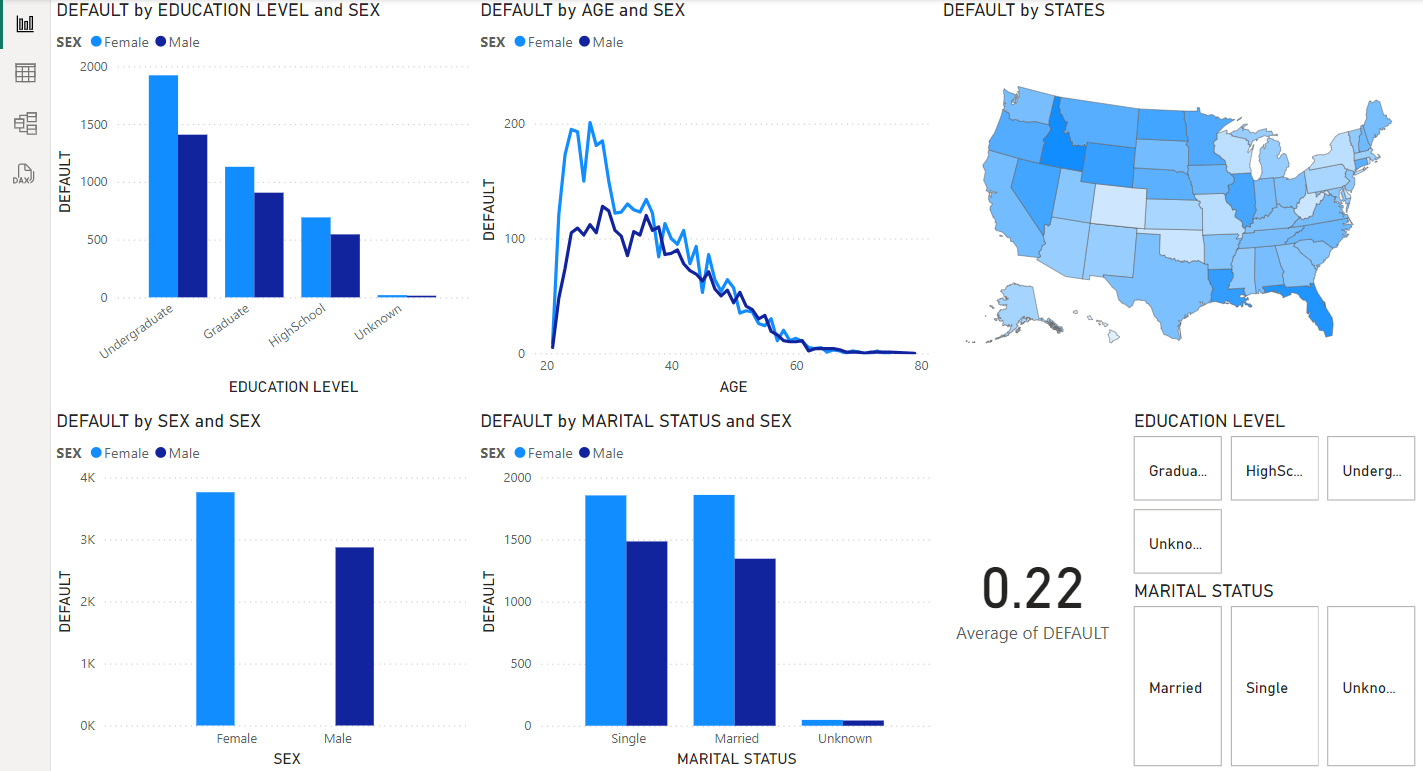

Layout of this report page (visuals, bound fields, positions):
{"tool":"powerbi","page":{"name":"Page 1","canvas":[1280,720],"ordinal":0},"visuals":[{"type":"clusteredColumnChart","fields":{"Y":["Sum(CreditCard_Data.DEFAULT)"],"Category":["CreditCard_Data.EDUCATION LEVEL"],"Series":["CreditCard_Data.SEX"]},"box":[0,0,394.2,373.3],"z":0},{"type":"lineChart","fields":{"Category":["CreditCard_Data.AGE"],"Y":["Sum(CreditCard_Data.DEFAULT)"],"Series":["CreditCard_Data.SEX"]},"box":[394.2,0,430.2,373.3],"z":1000},{"type":"clusteredColumnChart","fields":{"Y":["Sum(CreditCard_Data.DEFAULT)"],"Category":["CreditCard_Data.SEX"],"Series":["CreditCard_Data.SEX"]},"box":[0,383,394,337],"z":2000},{"type":"shapeMap","fields":{"Category":["CreditCard_Data.STATES"],"Value":["Sum(CreditCard_Data.DEFAULT)"]},"box":[824.4,0,450,382.6],"z":3000},{"type":"clusteredColumnChart","fields":{"Y":["Sum(CreditCard_Data.DEFAULT)"],"Category":["CreditCard_Data.MARITAL STATUS"],"Series":["CreditCard_Data.SEX"]},"box":[394.2,382.6,430.2,337.2],"z":4000},{"type":"card","fields":{"Values":["Avg(CreditCard_Data.DEFAULT)"]},"box":[824.4,382.6,177.9,337.2],"z":5000},{"type":"advancedSlicerVisual","fields":{"Values":["CreditCard_Data.EDUCATION LEVEL"]},"box":[1002.3,382.6,272.1,158.1],"z":6000},{"type":"advancedSlicerVisual","fields":{"Values":["CreditCard_Data.MARITAL STATUS"]},"box":[1002.3,540.7,272.1,179.1],"z":6001}]}

Visuals, with their boxes on the page's 1280x720 design canvas (x1, y1, x2, y2). These are canvas units, not pixel positions in the 1423x771 screenshot, which may show the page scaled, cropped or inside an application window:
clusteredColumnChart - Sum(CreditCard_Data.DEFAULT) x CreditCard_Data.EDUCATION LEVEL: bbox=[0, 0, 394, 373]
lineChart - CreditCard_Data.AGE x Sum(CreditCard_Data.DEFAULT): bbox=[394, 0, 824, 373]
clusteredColumnChart - Sum(CreditCard_Data.DEFAULT) x CreditCard_Data.SEX: bbox=[0, 383, 394, 720]
shapeMap - CreditCard_Data.STATES x Sum(CreditCard_Data.DEFAULT): bbox=[824, 0, 1274, 383]
clusteredColumnChart - Sum(CreditCard_Data.DEFAULT) x CreditCard_Data.MARITAL STATUS: bbox=[394, 383, 824, 720]
card - Avg(CreditCard_Data.DEFAULT): bbox=[824, 383, 1002, 720]
advancedSlicerVisual - CreditCard_Data.EDUCATION LEVEL: bbox=[1002, 383, 1274, 541]
advancedSlicerVisual - CreditCard_Data.MARITAL STATUS: bbox=[1002, 541, 1274, 720]
